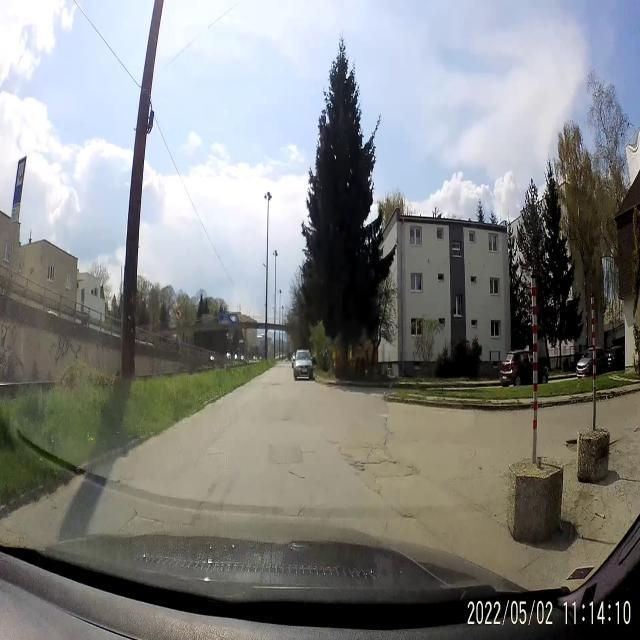Pothole: (348, 450, 416, 482), (396, 502, 422, 524)
